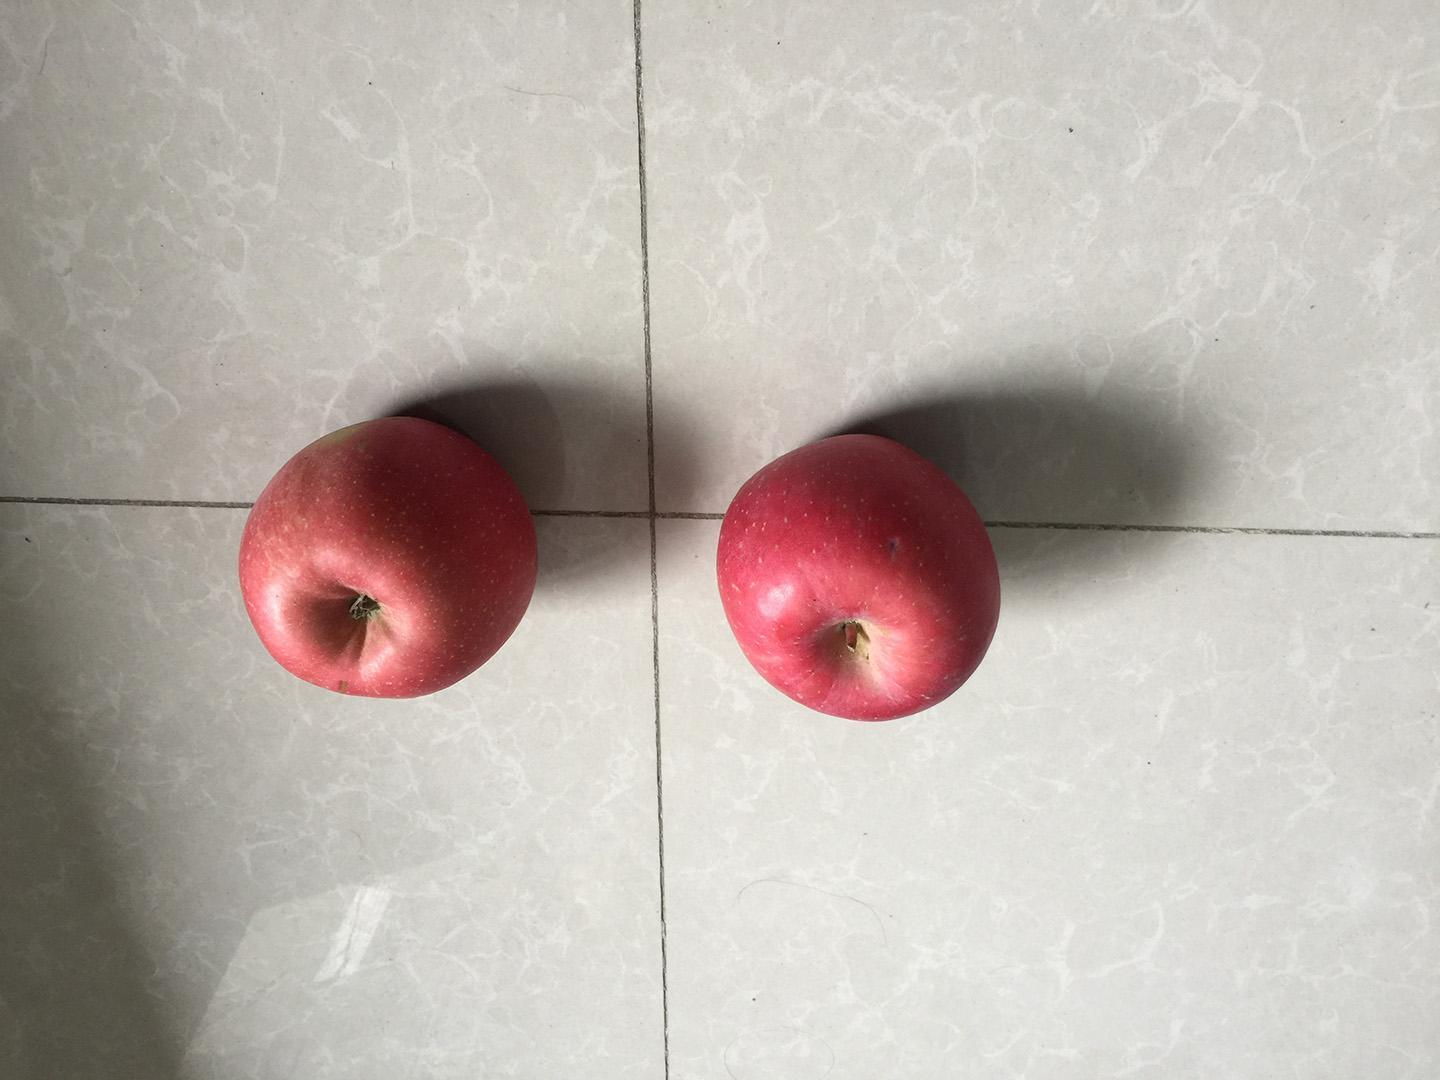apple: (229, 410, 544, 706), (712, 428, 1010, 726)
